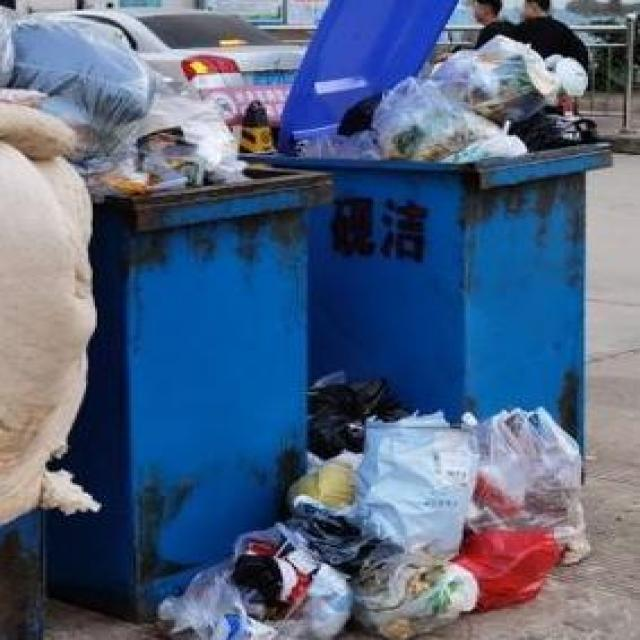garbage: (158, 367, 590, 638)
overflow: (0, 4, 335, 622), (308, 35, 610, 419)
